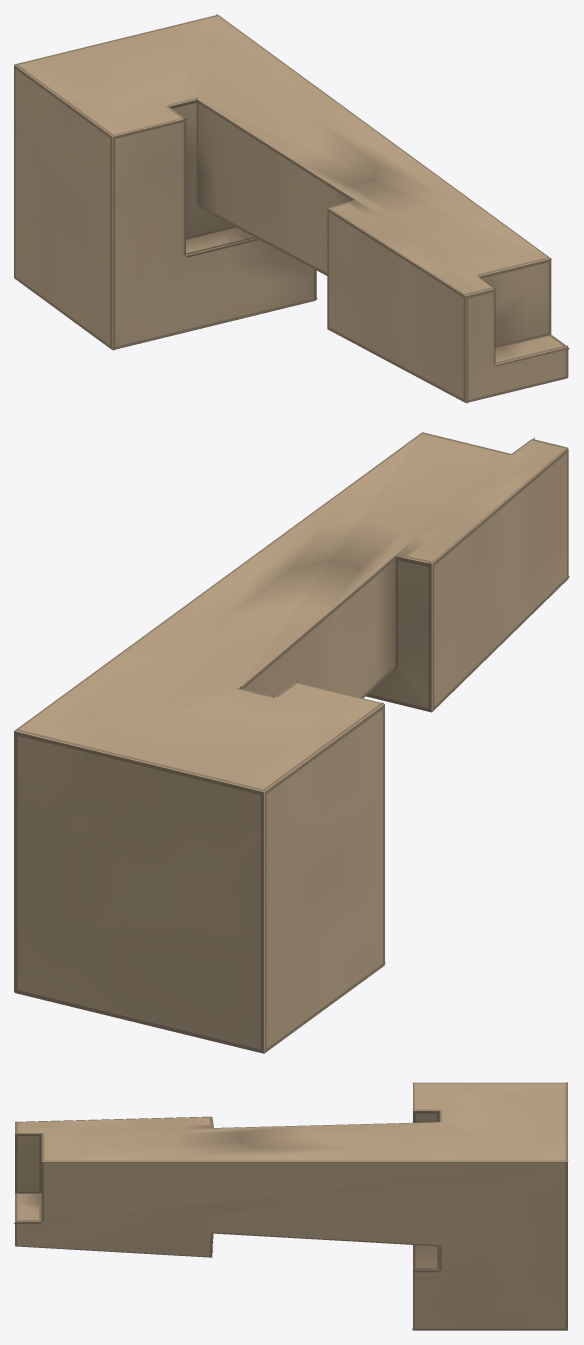
The picture shows the model from 3 angles, top to bottom: view 1: azimuth 30°, elevation 25°; view 2: azimuth 150°, elevation 25°; view 3: azimuth 270°, elevation 25°; orthographic projection. The views are drawn at different scales.
Parts seen in each view (by area): view 1: part-a; view 2: part-a; view 3: part-a.
Part boxes in pixels (x1=…): part-a: x1=14, y1=14, x2=569, y2=403; part-a: x1=14, y1=432, x2=569, y2=1053; part-a: x1=14, y1=1082, x2=568, y2=1330.
Bounding box in the file's own units: 0.1219 × 0.1219 × 0.359.
